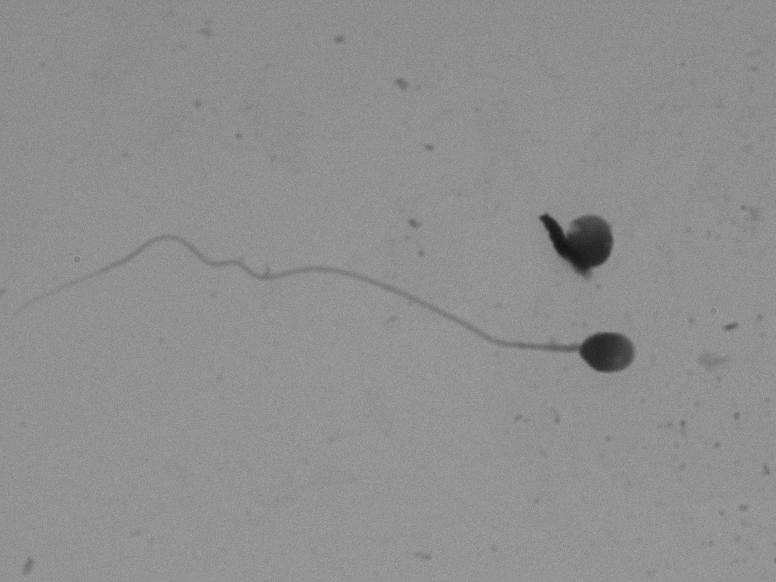Normal: (71, 259, 646, 408)
